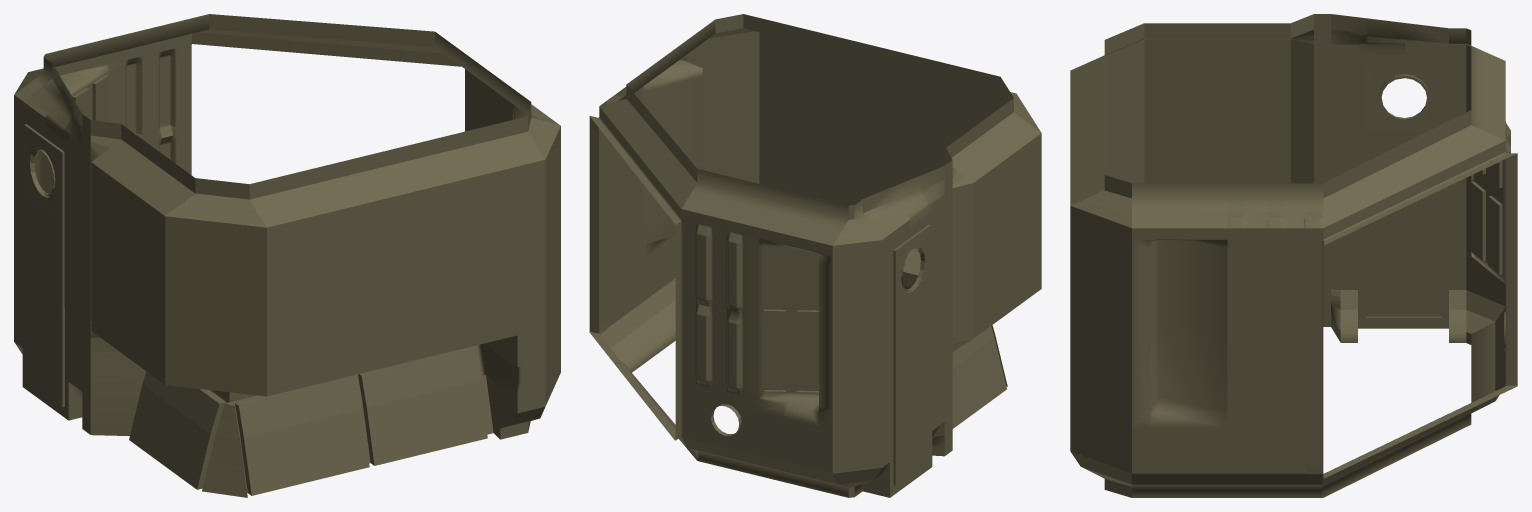
3 views of the same model, side by side, from view 1: azimuth 30°, elevation 25°; view 2: azimuth 150°, elevation 25°; view 3: azimuth 270°, elevation 25° (orthographic). The views are drawn at different scales.
Parts seen in each view (by area): view 1: polySurface11; view 2: polySurface11; view 3: polySurface11.
Boxes of the visible parts, x1=… form: polySurface11: x1=14, y1=14, x2=560, y2=497; polySurface11: x1=589, y1=14, x2=1041, y2=497; polySurface11: x1=1070, y1=14, x2=1517, y2=497.
Bounding box in the file's own units: 250 × 189 × 244.
